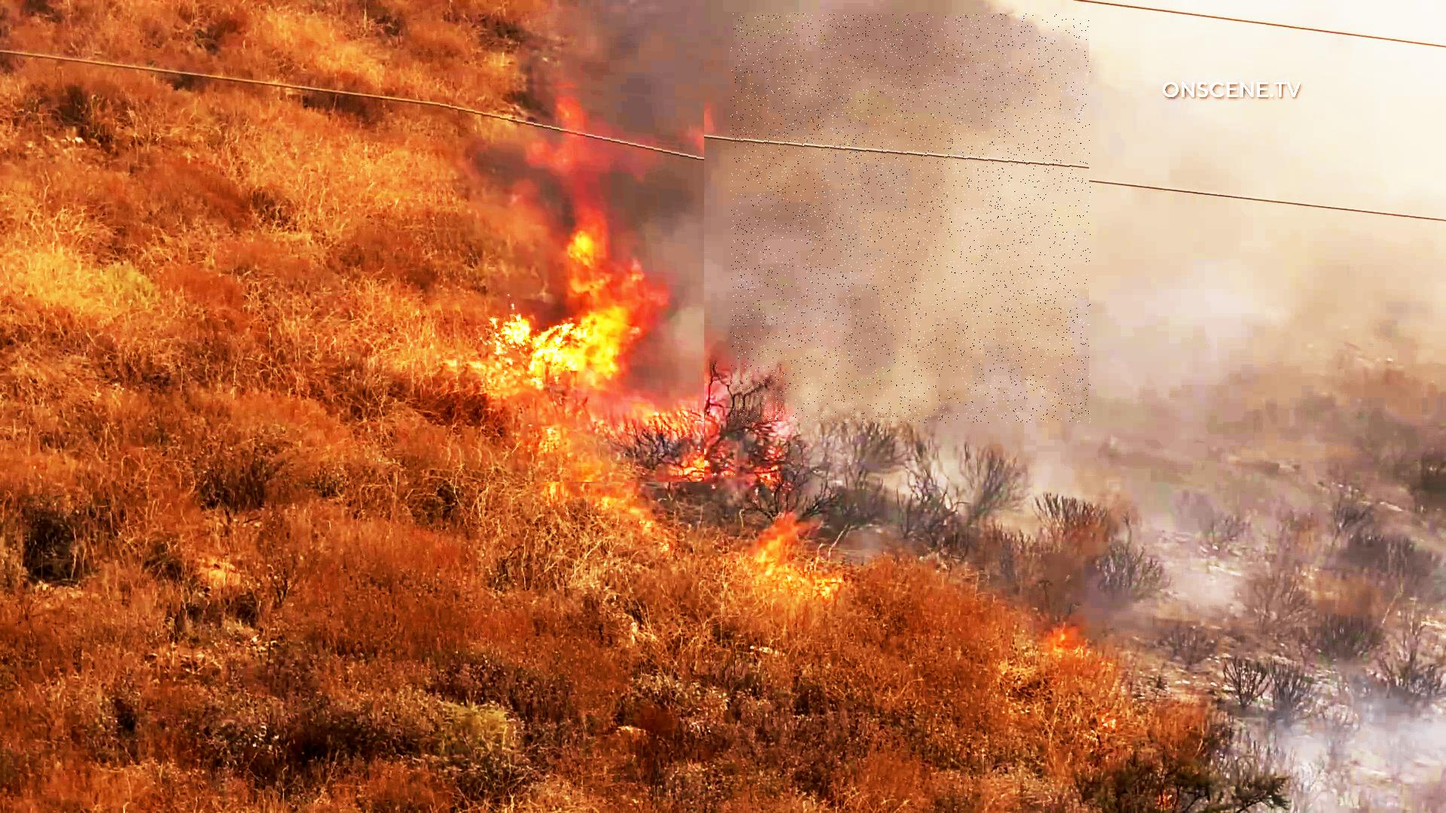fire: (433, 76, 704, 482)
smoke: (731, 14, 1091, 423)
